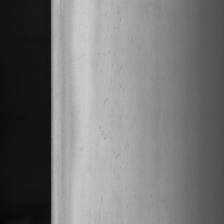silk_spot: (94, 14, 139, 211)
